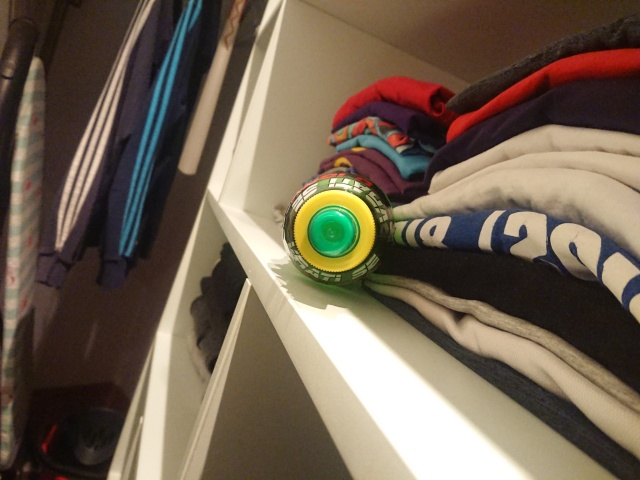Vindi Iso Sport Lemon-Grapefruit 500mL: (278, 170, 399, 289)
